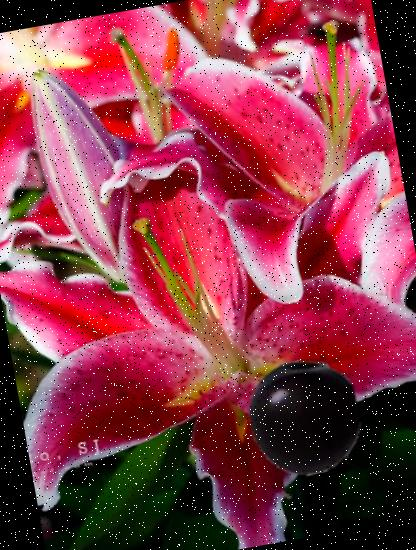Cherry: (238, 350, 372, 484)
